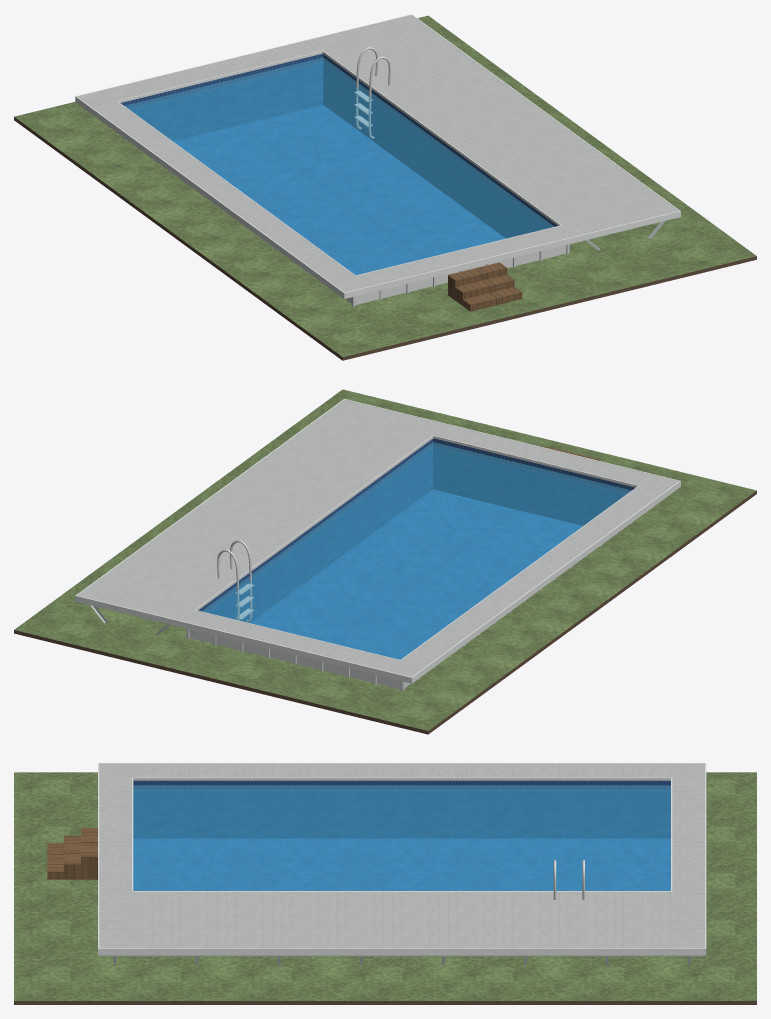
Rendered from kayak-pool-16x32-white-side-rec-nofence.581ffbdd3c.glb.
3 views of the same model, one above another, from view 1: azimuth 30°, elevation 25°; view 2: azimuth 150°, elevation 25°; view 3: azimuth 270°, elevation 25° (orthographic). The views are drawn at different scales.
Visible parts, largest first — view 1: water, deck, ground, liner_floor, liner_wall, fascia, soil, steps, wall, steel; view 2: water, ground, deck, liner_floor, liner_wall, fascia, soil, wall, steel; view 3: water, ground, deck, liner_wall, liner_floor, fascia, soil, steps, stud.
Boxes of the visible parts, bbox=[...] form: water: bbox=[125, 57, 553, 274]; deck: bbox=[77, 15, 678, 292]; ground: bbox=[14, 15, 756, 356]; liner_floor: bbox=[173, 105, 505, 274]; liner_wall: bbox=[120, 53, 557, 238]; fascia: bbox=[75, 14, 680, 298]; soil: bbox=[14, 117, 756, 360]; steps: bbox=[448, 262, 522, 311]; wall: bbox=[345, 245, 566, 304]; steel: bbox=[354, 47, 390, 138]; water: bbox=[202, 442, 631, 659]; ground: bbox=[14, 389, 756, 730]; deck: bbox=[77, 400, 678, 676]; liner_floor: bbox=[251, 489, 582, 659]; liner_wall: bbox=[198, 438, 635, 622]; fascia: bbox=[75, 399, 680, 683]; soil: bbox=[14, 490, 756, 734]; wall: bbox=[189, 629, 410, 689]; steel: bbox=[217, 540, 253, 622]; water: bbox=[133, 785, 670, 890]; ground: bbox=[14, 772, 756, 1000]; deck: bbox=[99, 764, 704, 947]; liner_wall: bbox=[133, 780, 670, 838]; liner_floor: bbox=[133, 838, 670, 890]; fascia: bbox=[98, 763, 706, 955]; soil: bbox=[14, 1001, 756, 1004]; steps: bbox=[47, 828, 97, 879]; stud: bbox=[99, 955, 704, 964].
Bounding box in the file's own units: 9.75 × 1.9 × 13.4.
12 materials, 5 textured.
